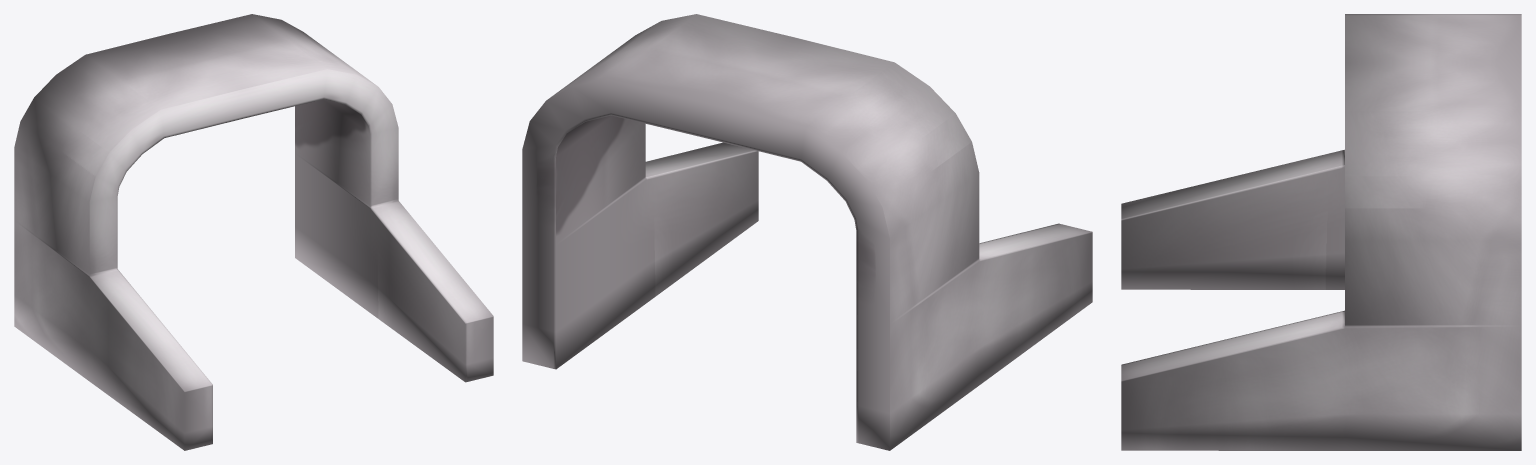
The model's file is Tunelfbx.fbx.
The picture shows the model from 3 angles, left to right: view 1: azimuth 30°, elevation 25°; view 2: azimuth 150°, elevation 25°; view 3: azimuth 270°, elevation 25°; orthographic projection. The views are drawn at different scales.
Visible parts, largest first — view 1: Tunel; view 2: Tunel; view 3: Tunel.
Part boxes in pixels (x1=…): Tunel: x1=14, y1=14, x2=493, y2=450; Tunel: x1=522, y1=14, x2=1092, y2=450; Tunel: x1=1121, y1=14, x2=1521, y2=450.
Size of the model in its own units: 400 by 315 by 382.
Materials: 1 (1 with a texture image).
